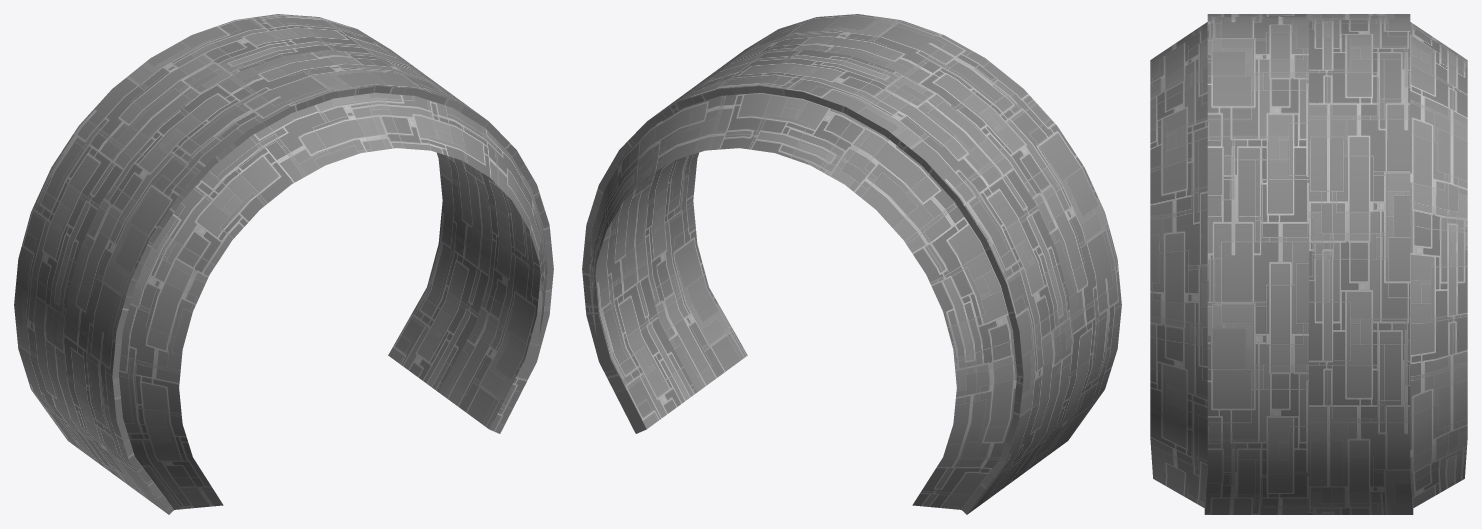
The model's file is SM_arch_03.glb.
The picture shows the model from 3 angles, left to right: view 1: azimuth 30°, elevation 25°; view 2: azimuth 150°, elevation 25°; view 3: azimuth 270°, elevation 25°; orthographic projection. The views are drawn at different scales.
Visible parts, largest first — view 1: SM_arch_03; view 2: SM_arch_03; view 3: SM_arch_03.
Part boxes in pixels (x1=…): SM_arch_03: x1=14, y1=14, x2=553, y2=514; SM_arch_03: x1=582, y1=14, x2=1121, y2=514; SM_arch_03: x1=1150, y1=14, x2=1467, y2=514.
Size of the model in its own units: 7.48 by 6.17 by 4.52.
Materials: 2 (2 with a texture image).
